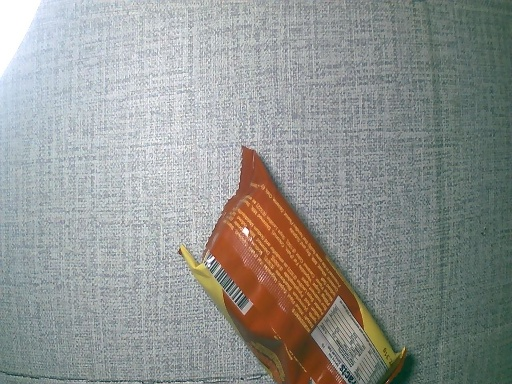plastic: (179, 145, 415, 384)
